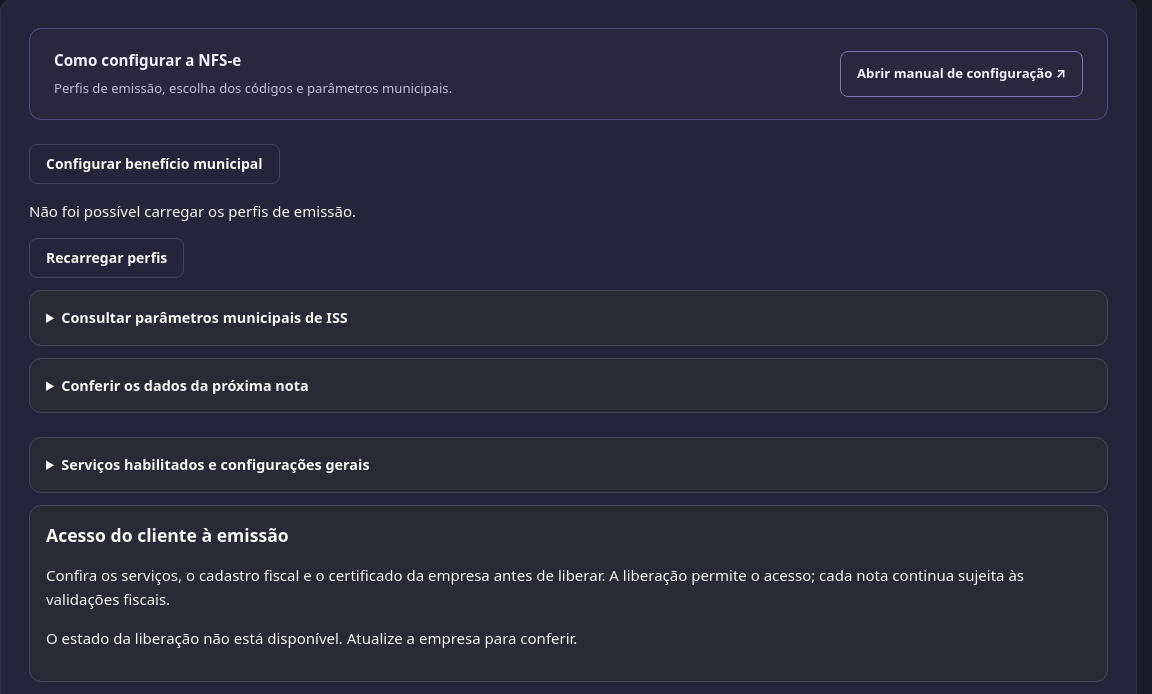
Test case: ⚠ A ABA PASSA AS PROPS — o bloco não renderiza vazio para sempre › o atalho abre a configuração e foca o campo sem salvar ou escolher benefício
Click the button "Configurar benefício municipal": {"x": 154, "y": 164} [29,144,280,184]
(page scrolled)
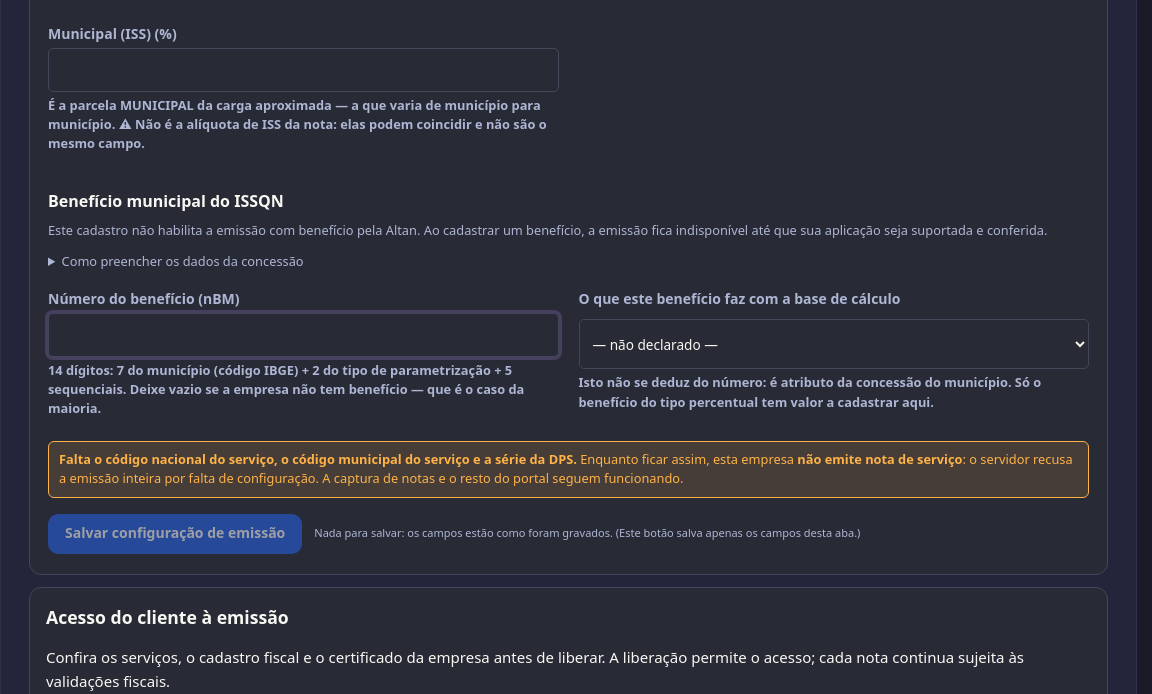
Expected: the field labelled "Número do benefício (nBM)" is empty, [48,313,558,357]
Expected: the text "Este cadastro não habilita a emissão com benefício pela Altan" is shown, [48,220,1047,238]
